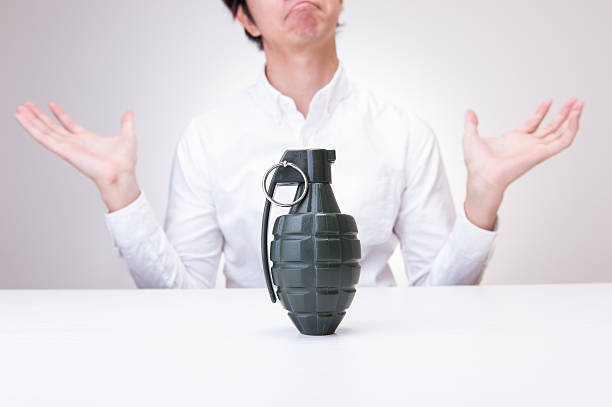e1: (260, 149, 363, 335)
